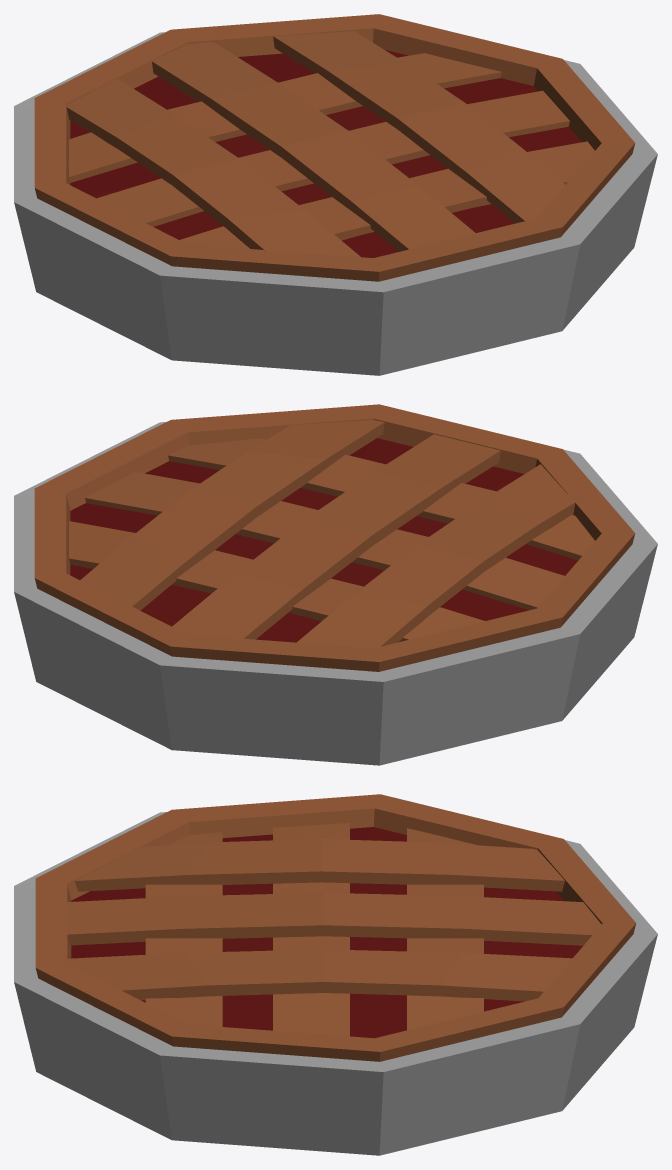
The model's file is PieApple.fbx.
3 renders of one model, top to bottom at view 1: azimuth 30°, elevation 25°; view 2: azimuth 150°, elevation 25°; view 3: azimuth 270°, elevation 25°, orthographic.
Parts seen in each view (by area): view 1: Cylinder.001; view 2: Cylinder.001; view 3: Cylinder.001.
Boxes of the visible parts, x1,y1,x2,y2 form: Cylinder.001: (14, 14, 657, 375); Cylinder.001: (14, 404, 657, 765); Cylinder.001: (14, 794, 657, 1155).
Bounding box in the file's own units: 42.07 × 9.18 × 41.44.
